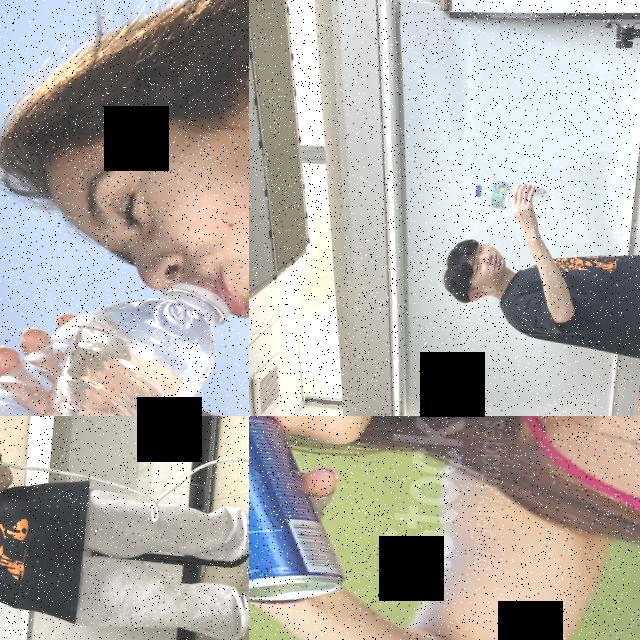bottle: (0, 253, 232, 416), (472, 178, 550, 216)
can: (249, 416, 366, 610)
